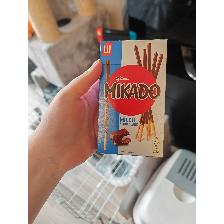Schokolade: (96, 38, 170, 162)
